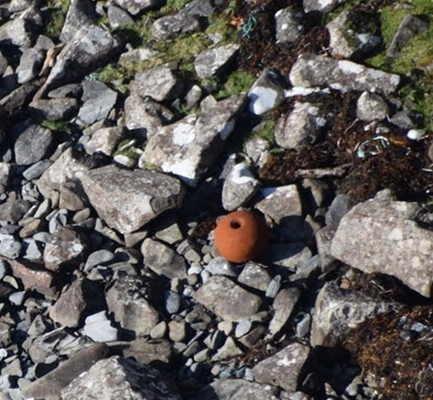net: (229, 3, 269, 42)
together_barrel: (352, 119, 429, 164)
white_in_green: (182, 174, 299, 292)
